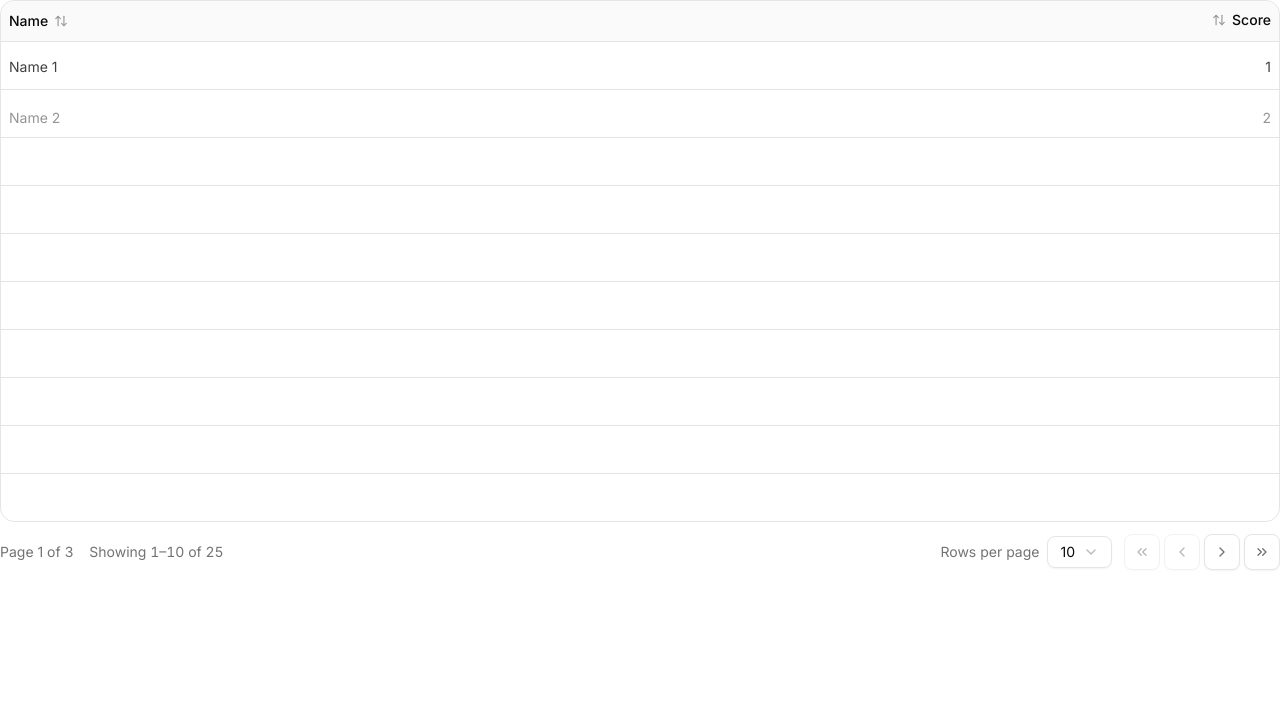
Scenario: <DataTable /> — pager integration (usePagination) › returns to the first page when the page size changes
Click the button named "Last page": (1262, 552) [1244,534,1279,570]
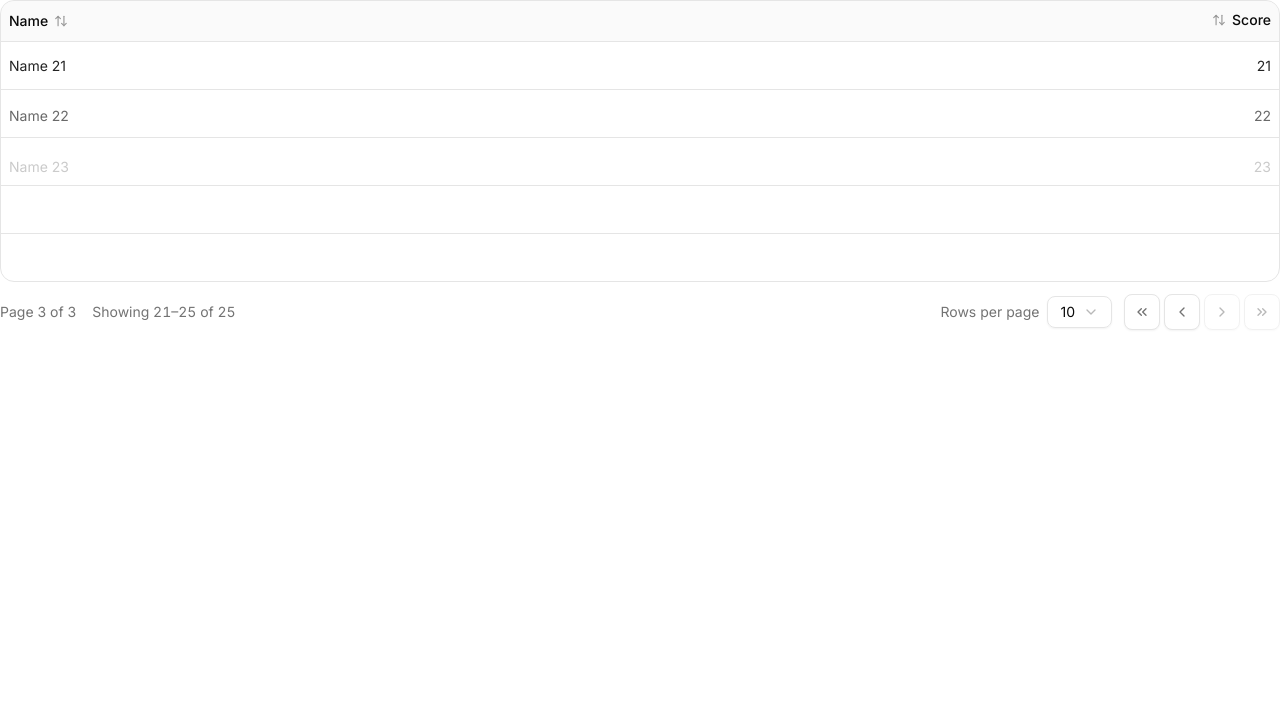
expect the text "Page 3 of 3" is shown: met, box [0,302,76,322]
Click the dropdown named "Rows per page": (1080, 312) [1048,296,1112,328]
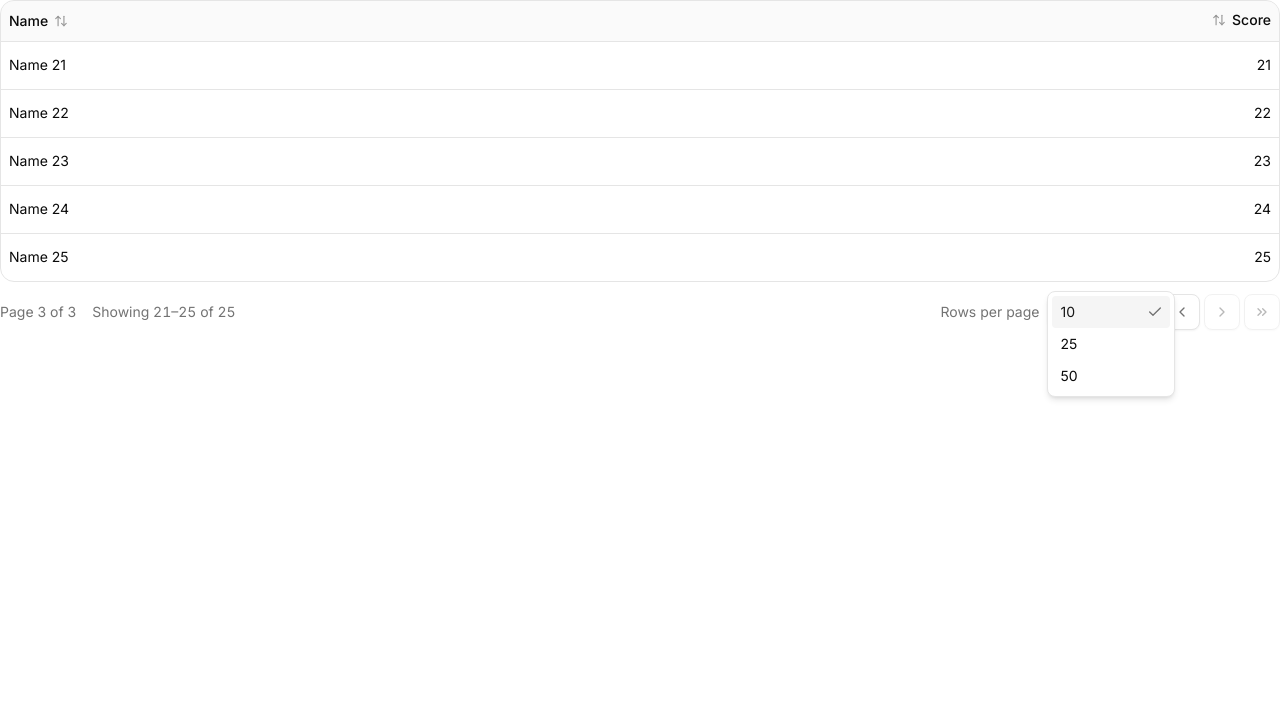
Click the option "25": (1069, 344) [1060,335,1077,352]
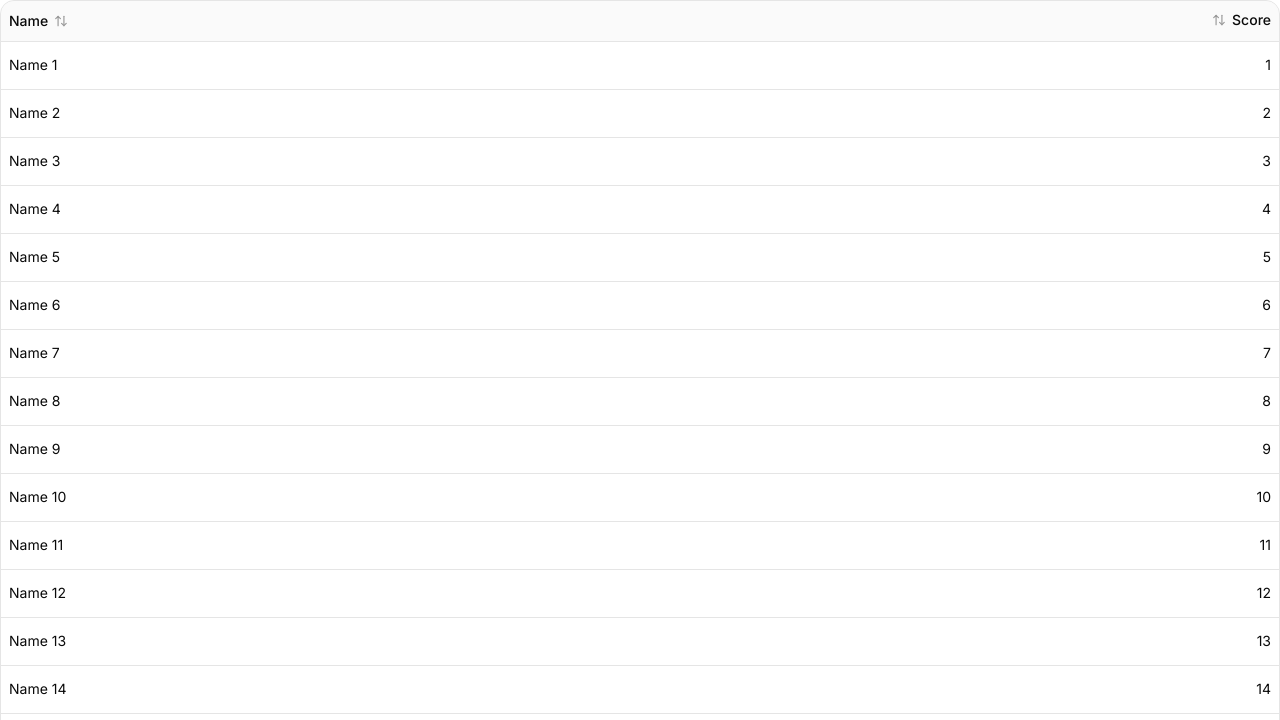
expect the cell "Name 1" is shown: met, box [1,41,645,89]
